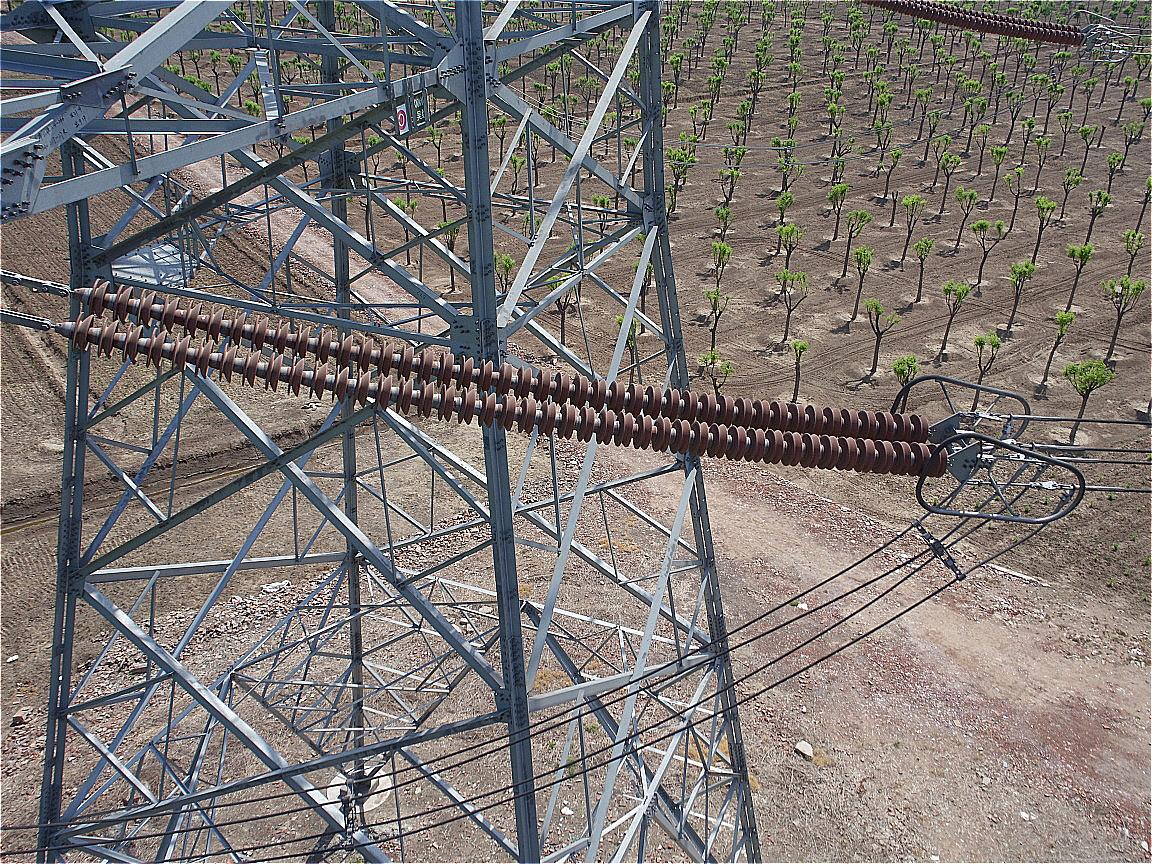insultor2: (72, 279, 950, 478)
